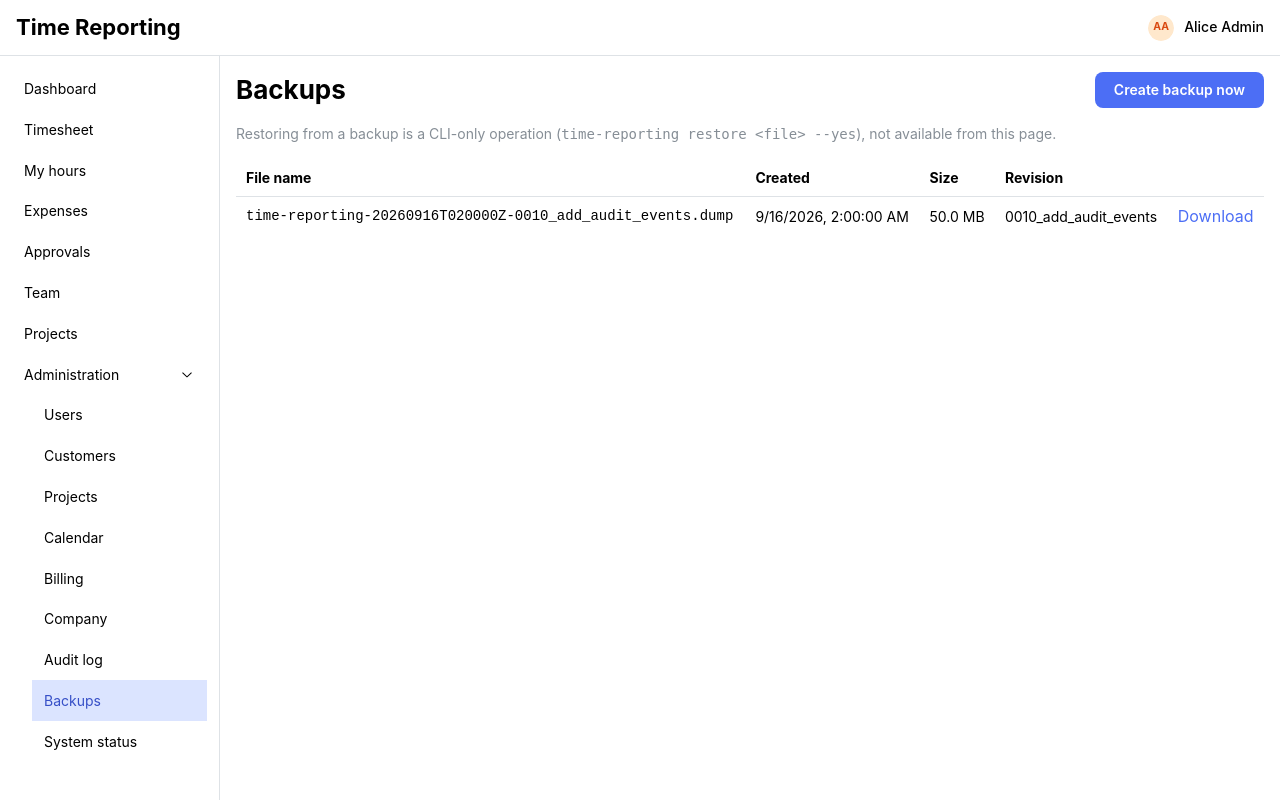
Test case: AdminBackupsPage › shows a notification when a backup is already in progress
Expected: the text "time-reporting-20260916T020000Z-0010_add_audit_events.dump" is shown, left=246, top=206, right=735, bottom=226
Click the button "Create backup now".
click(1179, 90)  # box left=1095, top=72, right=1264, bottom=108
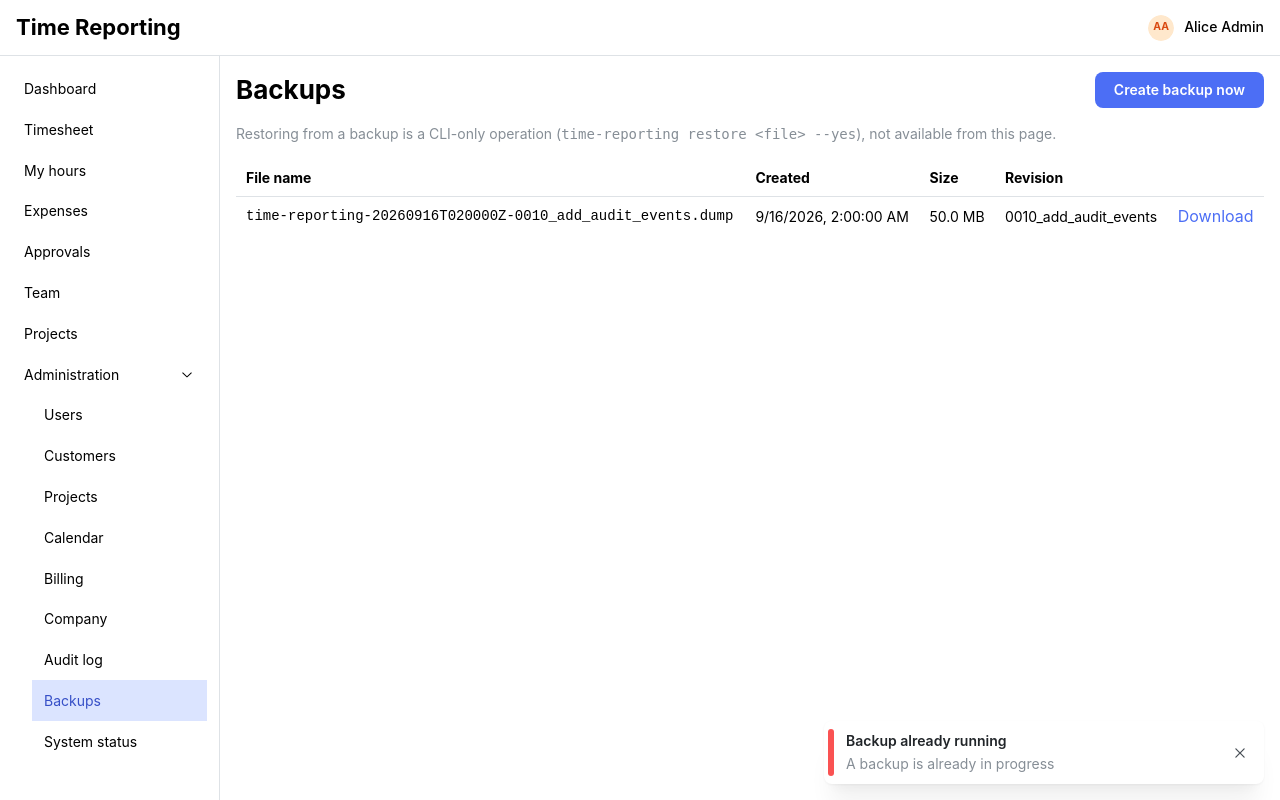
Now the text "Backup already running" is shown, box left=846, top=732, right=1006, bottom=749
